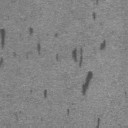red iron: (56, 40, 106, 96), (29, 27, 41, 54), (0, 28, 5, 48), (96, 118, 100, 128), (92, 12, 96, 20), (44, 90, 48, 98), (66, 110, 70, 116)
